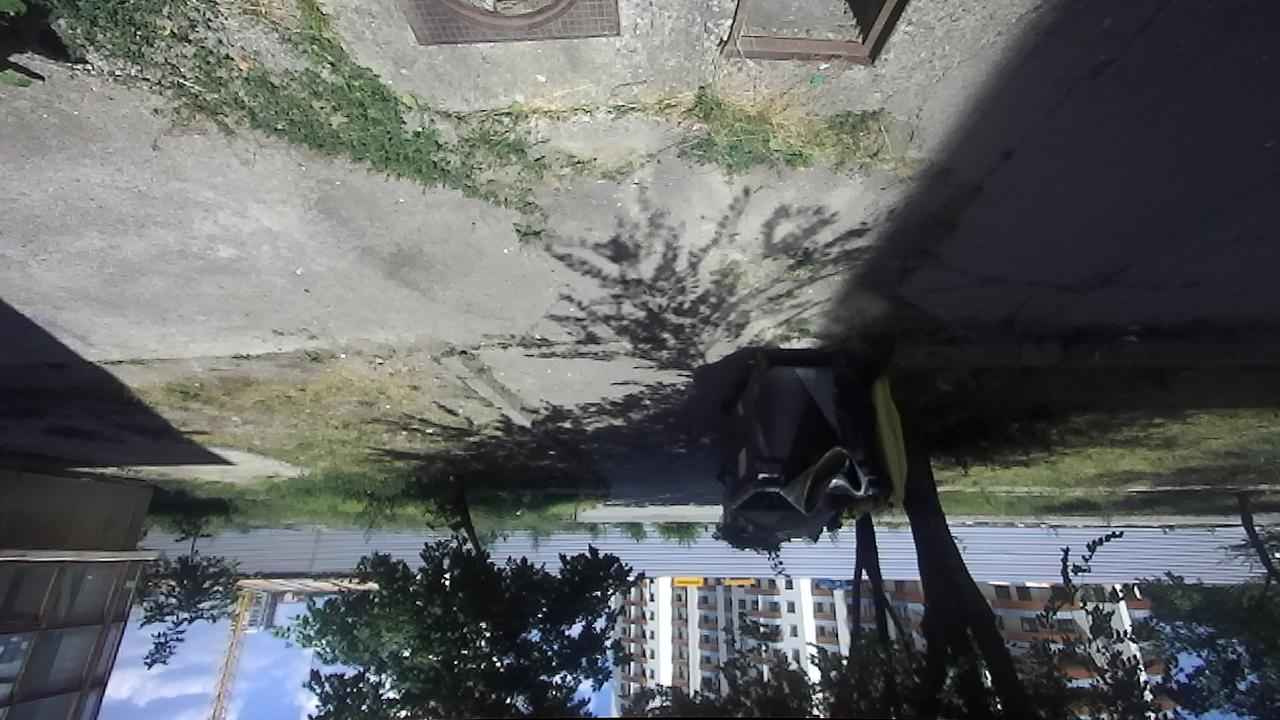drain: (716, 0, 920, 69), (422, 0, 582, 33)
